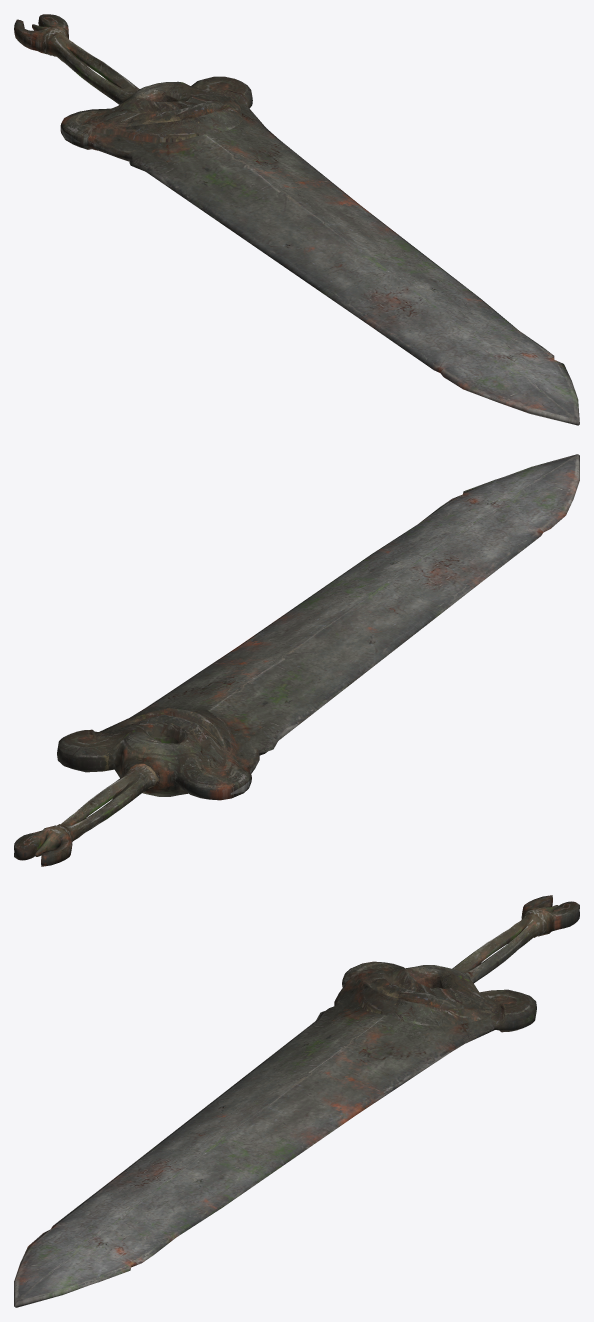
3 renders of one model, top to bottom at view 1: azimuth 30°, elevation 25°; view 2: azimuth 150°, elevation 25°; view 3: azimuth 330°, elevation 25°, orthographic.
Parts seen in each view (by area): view 1: WP_A_0210; view 2: WP_A_0210; view 3: WP_A_0210.
Part boxes in pixels (box(x1,y1,x2,y2)): WP_A_0210: box(14, 14, 579, 425); WP_A_0210: box(14, 454, 579, 866); WP_A_0210: box(14, 895, 579, 1307).
Bounding box in the file's own units: 36.46 × 11.03 × 190.
1 material, 1 textured.
